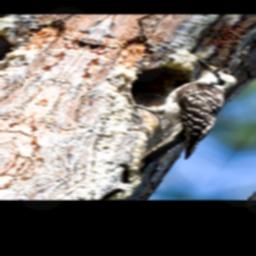Woodpecker: (86, 52, 256, 182)
